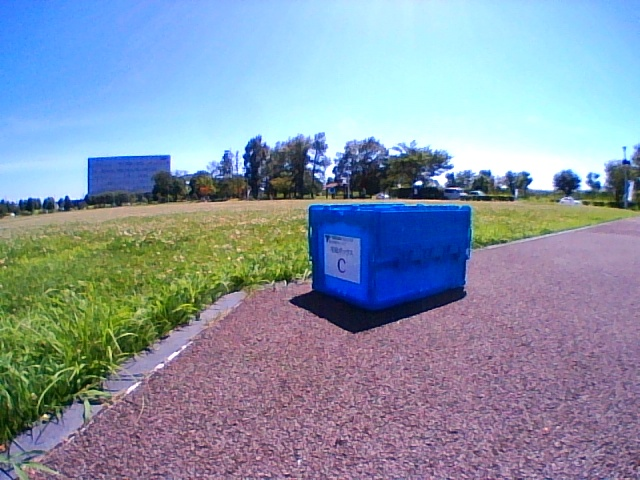blue_box: (309, 204, 470, 310)
tag_c: (327, 238, 358, 276)
